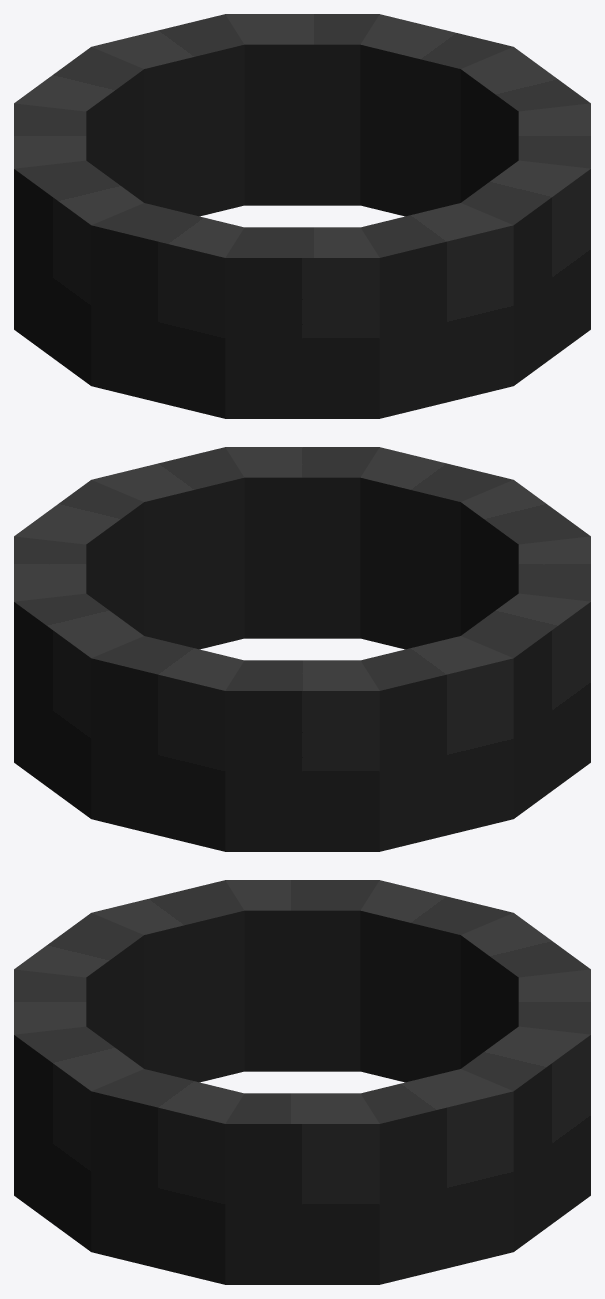
File: BanBekas1.fbx
The picture shows the model from 3 angles, top to bottom: view 1: azimuth 30°, elevation 25°; view 2: azimuth 150°, elevation 25°; view 3: azimuth 270°, elevation 25°; orthographic projection.
Visible parts, largest first — view 1: tube; view 2: tube; view 3: tube.
Part boxes in pixels (left/top/right/bottom): tube: left=14, top=14, right=590, bottom=418; tube: left=14, top=447, right=590, bottom=851; tube: left=14, top=880, right=590, bottom=1284.
Bounding box in the file's own units: 154 × 47.38 × 154.
Materials: 1 (1 with a texture image).
